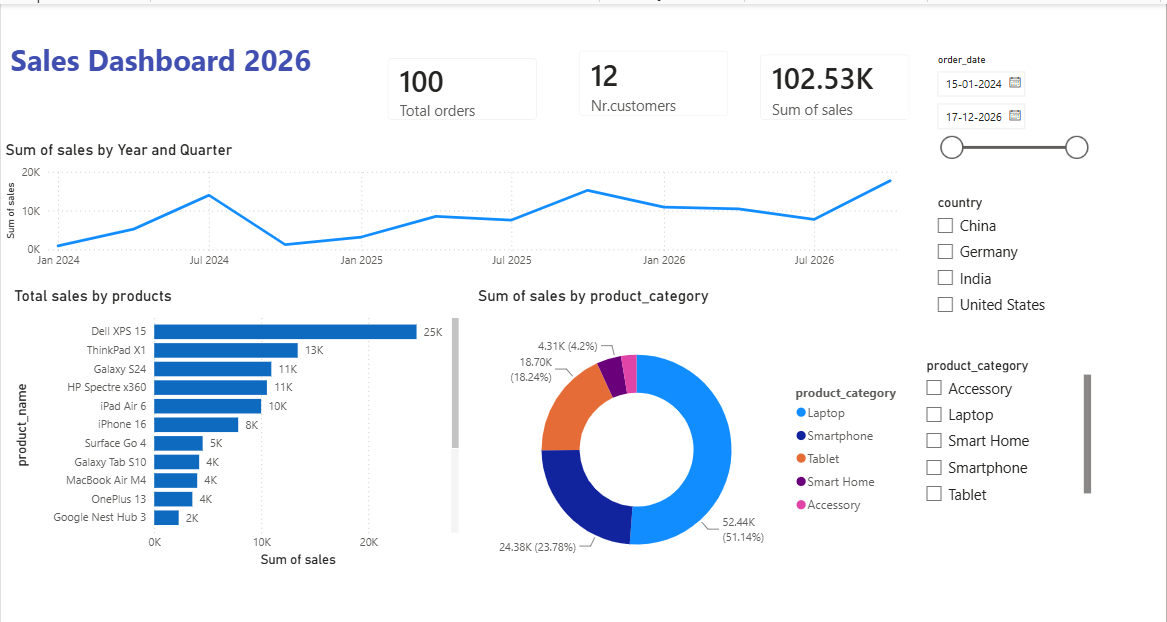

What the dashboard file says about the page in this screenshot:
{"tool":"powerbi","page":{"name":"Page 1","canvas":[1280,720],"ordinal":0},"visuals":[{"type":"barChart","title":"Total sales by products","fields":{"Category":["orders.product_name"],"Y":["Sum(orders.sales)"]},"box":[10,310,497.8,313.3],"z":0},{"type":"donutChart","fields":{"Y":["Sum(orders.sales)"],"Category":["orders.product_category"]},"box":[518.9,310,484.4,337.8],"z":1000},{"type":"cardVisual","fields":{"Data":["CountNonNull(orders.order_id)"]},"box":[407.8,42.2,198.9,102.2],"z":2000},{"type":"cardVisual","fields":{"Data":["Sum(orders.sales)"]},"box":[816.7,37.8,198.9,106.7],"z":3000},{"type":"cardVisual","fields":{"Data":["Count(customers.customer_id)"]},"box":[617.8,34.4,198.9,106.7],"z":4000},{"type":"lineChart","fields":{"Category":["orders.order_date.Variation.Date Hierarchy.Year","orders.order_date.Variation.Date Hierarchy.Quarter","orders.order_date.Variation.Date Hierarchy.Month","orders.order_date.Variation.Date Hierarchy.Day"],"Y":["Sum(orders.sales)"]},"box":[0,150,1003.3,150],"z":5000},{"type":"slicer","fields":{"Values":["orders.product_category"]},"box":[1003.3,382.2,198.9,171.1],"z":6000},{"type":"slicer","fields":{"Values":["customers.country"]},"box":[1015.6,204.4,198.9,150],"z":7000},{"type":"slicer","fields":{"Values":["orders.order_date"]},"box":[1015.6,50,186.7,134.4],"z":8000},{"type":"textbox","box":[10,0,317,150],"z":9000},{"type":"textbox","box":[5.6,34.4,354.4,62.2],"z":10000}]}

Visuals, with their boxes on the page's 1280x720 design canvas (x1, y1, x2, y2). These are canvas units, not pixel positions in the 1167x622 screenshot, which may show the page scaled, cropped or inside an application window:
"Total sales by products" barChart: locate(10, 310, 508, 623)
donutChart - Sum(orders.sales) x orders.product_category: locate(519, 310, 1003, 648)
cardVisual - CountNonNull(orders.order_id): locate(408, 42, 607, 144)
cardVisual - Sum(orders.sales): locate(817, 38, 1016, 144)
cardVisual - Count(customers.customer_id): locate(618, 34, 817, 141)
lineChart - orders.order_date.Variation.Date Hierarchy.Year x orders.order_date.Variation.Date Hierarchy.Quarter: locate(0, 150, 1003, 300)
slicer - orders.product_category: locate(1003, 382, 1202, 553)
slicer - customers.country: locate(1016, 204, 1214, 354)
slicer - orders.order_date: locate(1016, 50, 1202, 184)
textbox: locate(10, 0, 327, 150)
textbox: locate(6, 34, 360, 97)
